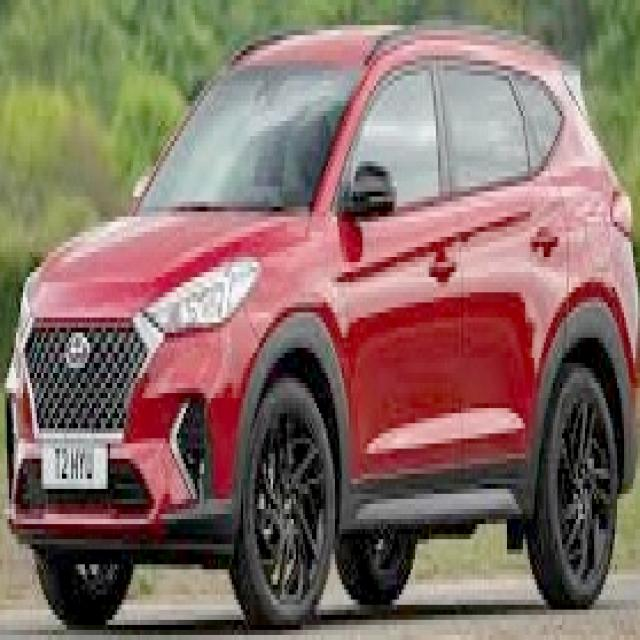red: (9, 31, 640, 562)
